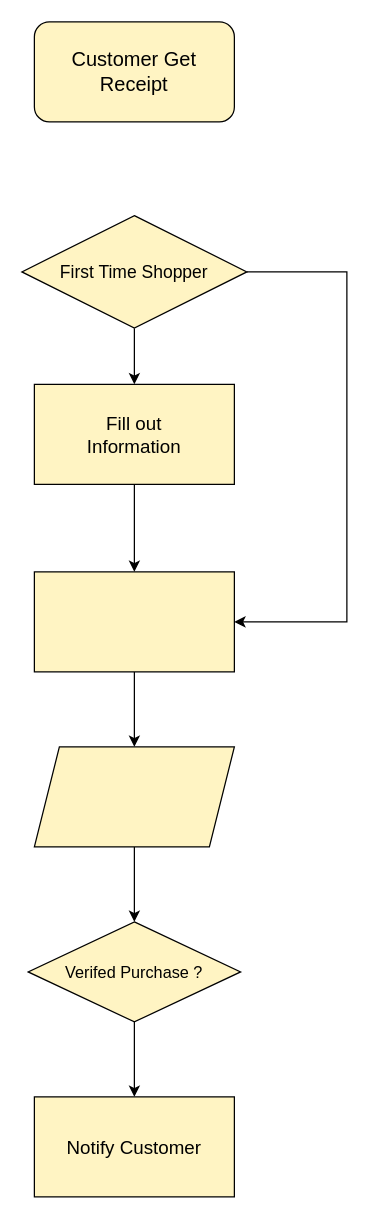
The diagram is 379 pixels wide and 1219 high, and some of its shapes have lost their labels. Here are the shapes that lost their labels. From the top down, the box of each, then its label:
(33, 571, 234, 672): Upload Receipt
(33, 746, 234, 847): Backend Verification
